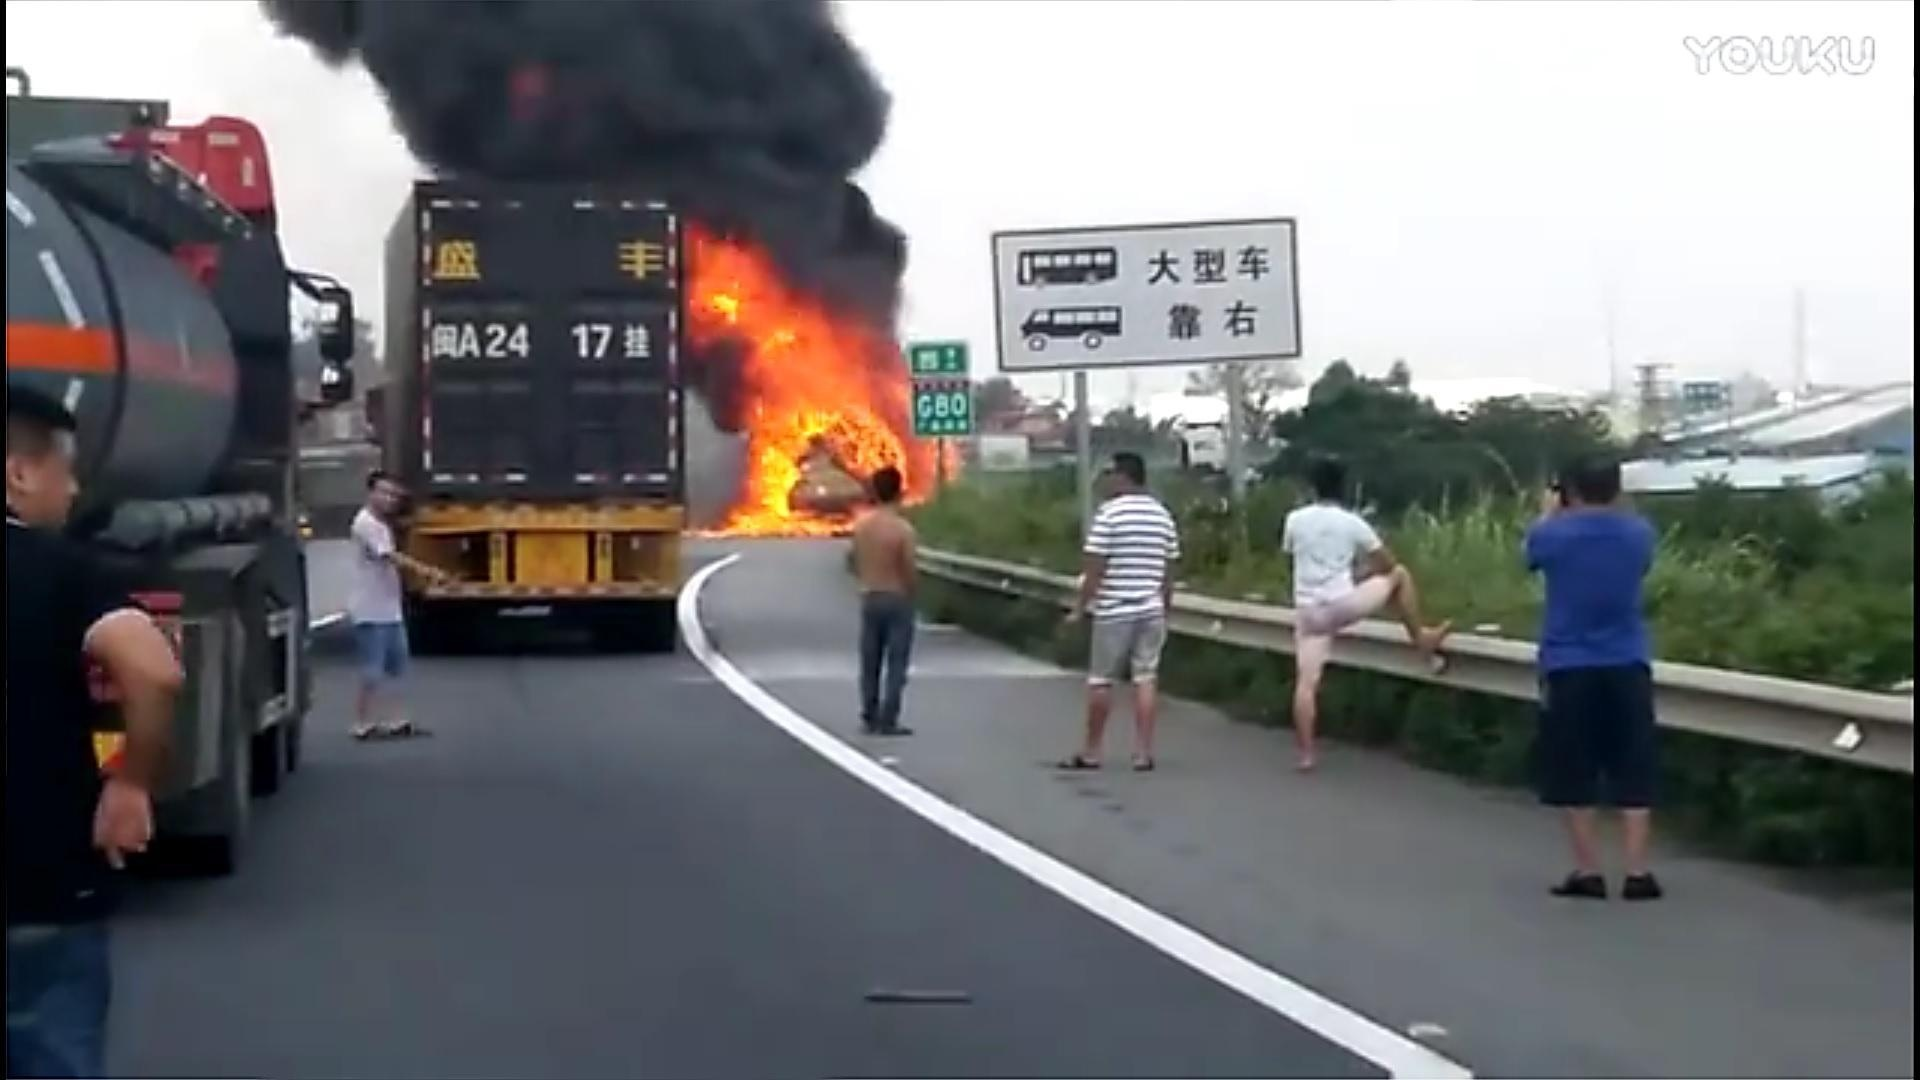fire: (688, 237, 923, 537), (1557, 802, 1658, 884)
